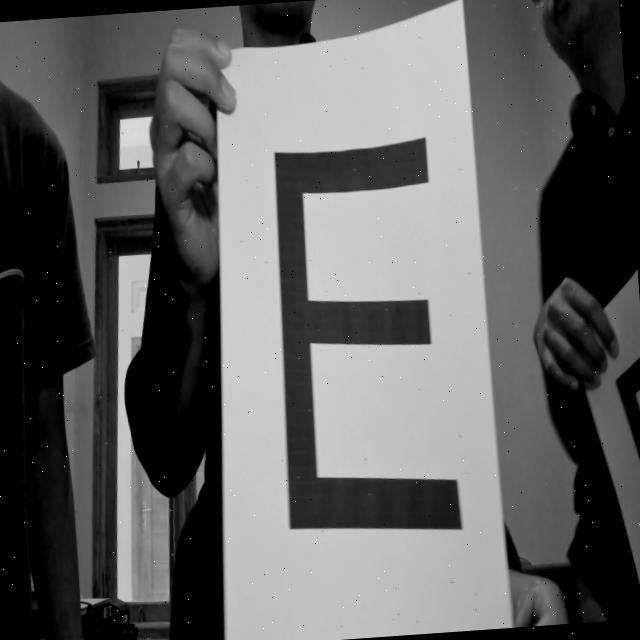e: (252, 115, 474, 579)
